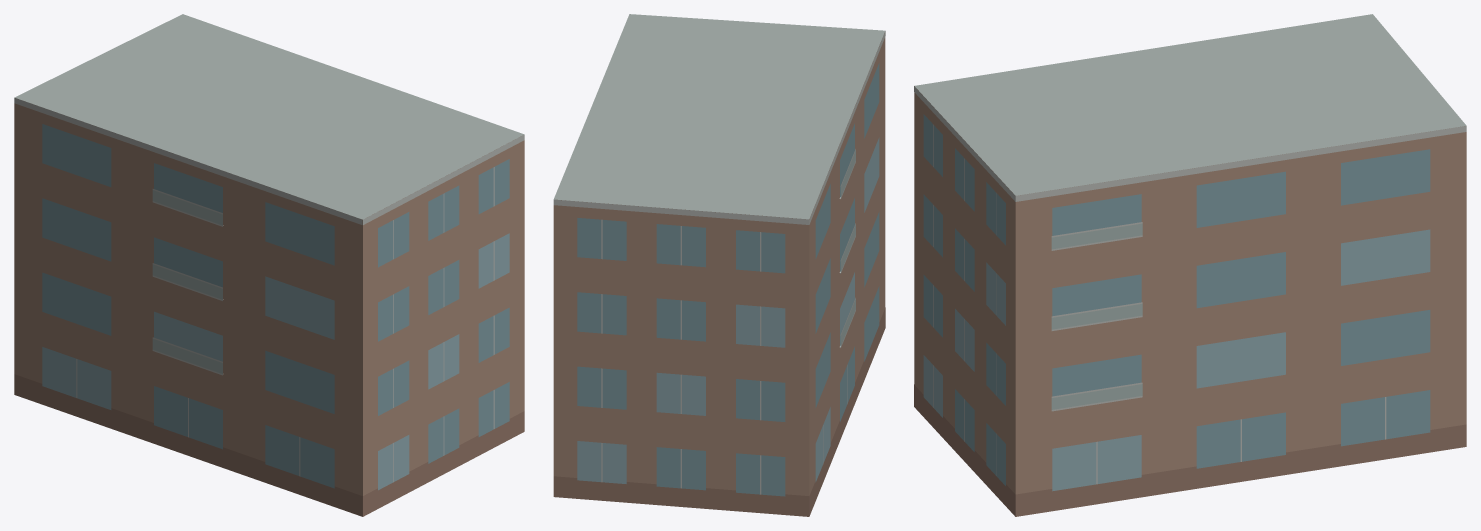
Rendered from survey-upis-32976265.glb.
3 renders of one model, left to right at view 1: azimuth 30°, elevation 25°; view 2: azimuth 150°, elevation 25°; view 3: azimuth 270°, elevation 25°, orthographic. The views are drawn at different scales.
Visible parts, largest first — view 1: survey-upis-32976265.tmp; view 2: survey-upis-32976265.tmp; view 3: survey-upis-32976265.tmp.
Part boxes in pixels (box(x1,y1,x2,y2)): survey-upis-32976265.tmp: box(14, 14, 524, 516); survey-upis-32976265.tmp: box(553, 14, 885, 516); survey-upis-32976265.tmp: box(914, 14, 1466, 516).
Bounding box in the file's own units: 15.56 × 12.8 × 19.97.
